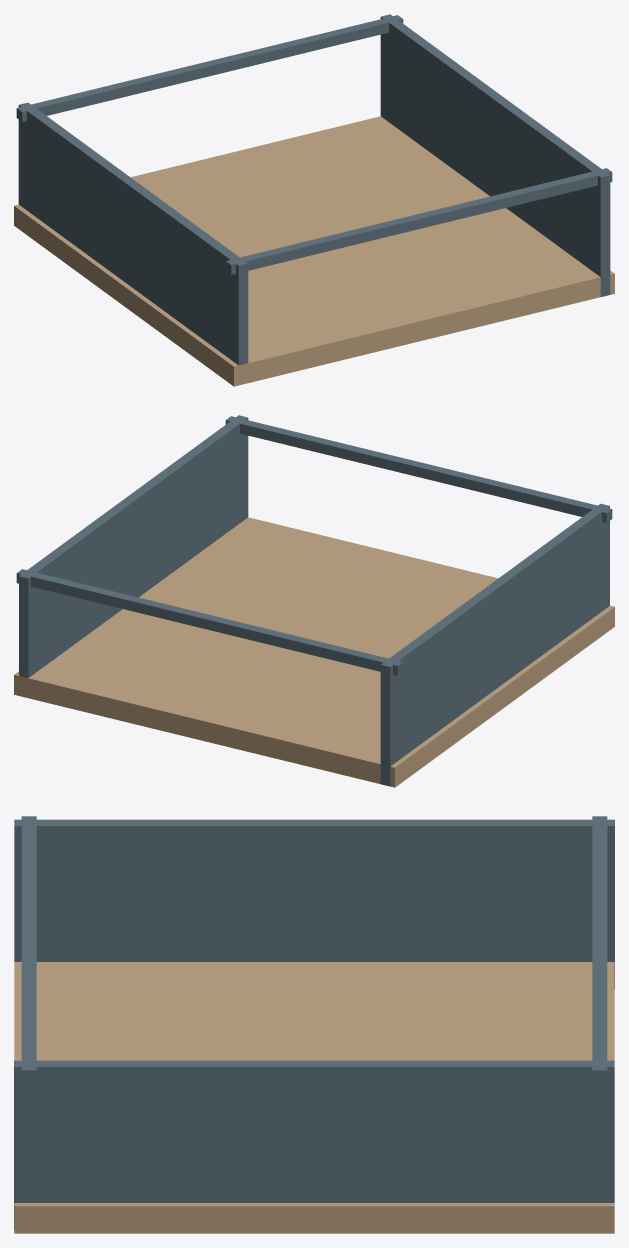
Rendered from voxel-city-districts-roof-terrace-9fa257e2__24916.glb.
3 views of the same model, one above another, from view 1: azimuth 30°, elevation 25°; view 2: azimuth 150°, elevation 25°; view 3: azimuth 270°, elevation 25° (orthographic). The views are drawn at different scales.
Visible parts, largest first — view 1: roof-terrace-wood, roof-terrace-dark; view 2: roof-terrace-wood, roof-terrace-dark; view 3: roof-terrace-dark, roof-terrace-wood.
Boxes of the visible parts, bbox=[...] form: roof-terrace-wood: bbox=[14, 116, 614, 386]; roof-terrace-dark: bbox=[16, 14, 612, 365]; roof-terrace-wood: bbox=[14, 517, 614, 787]; roof-terrace-dark: bbox=[16, 415, 612, 786]; roof-terrace-dark: bbox=[14, 816, 614, 1229]; roof-terrace-wood: bbox=[14, 962, 614, 1233].
Size of the model in its own units: 4 by 1.2 by 4.
